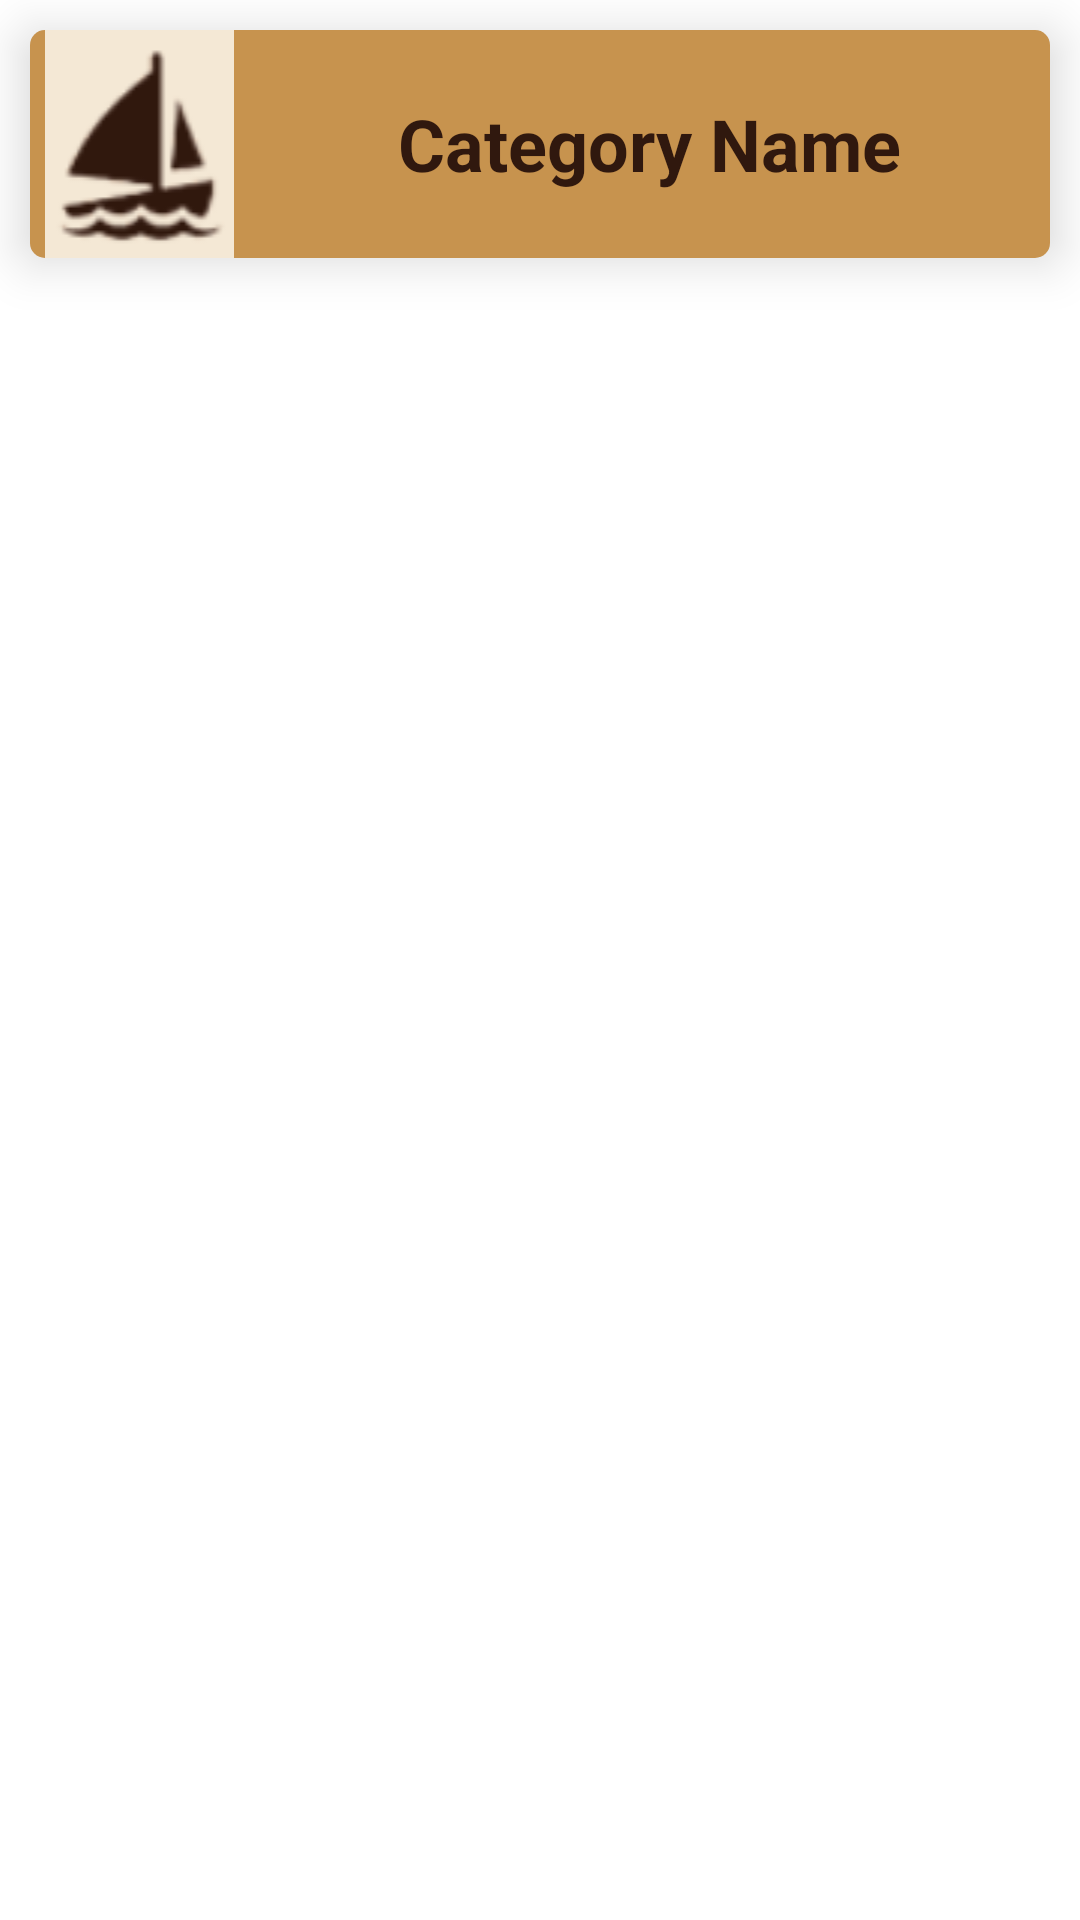

Icons on this 1080 x 1920 Android screen, each with its box as (x1, y1, x2, y2):
category pic: (30, 30, 225, 258)
